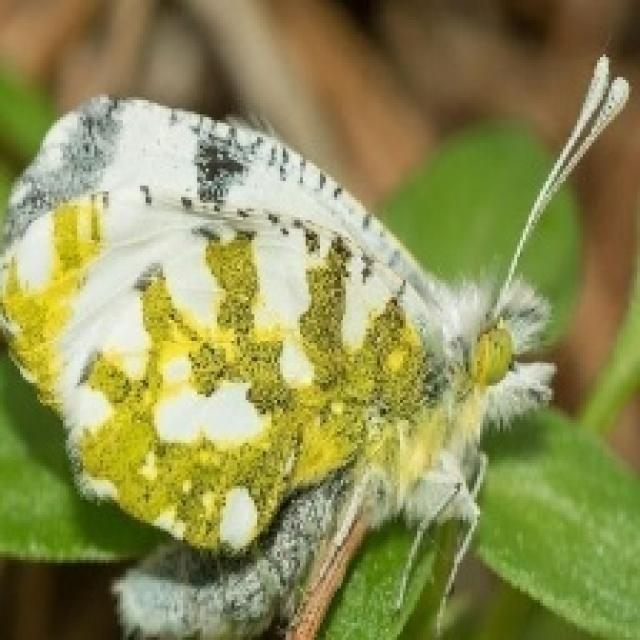butterfly: (0, 48, 634, 637)
